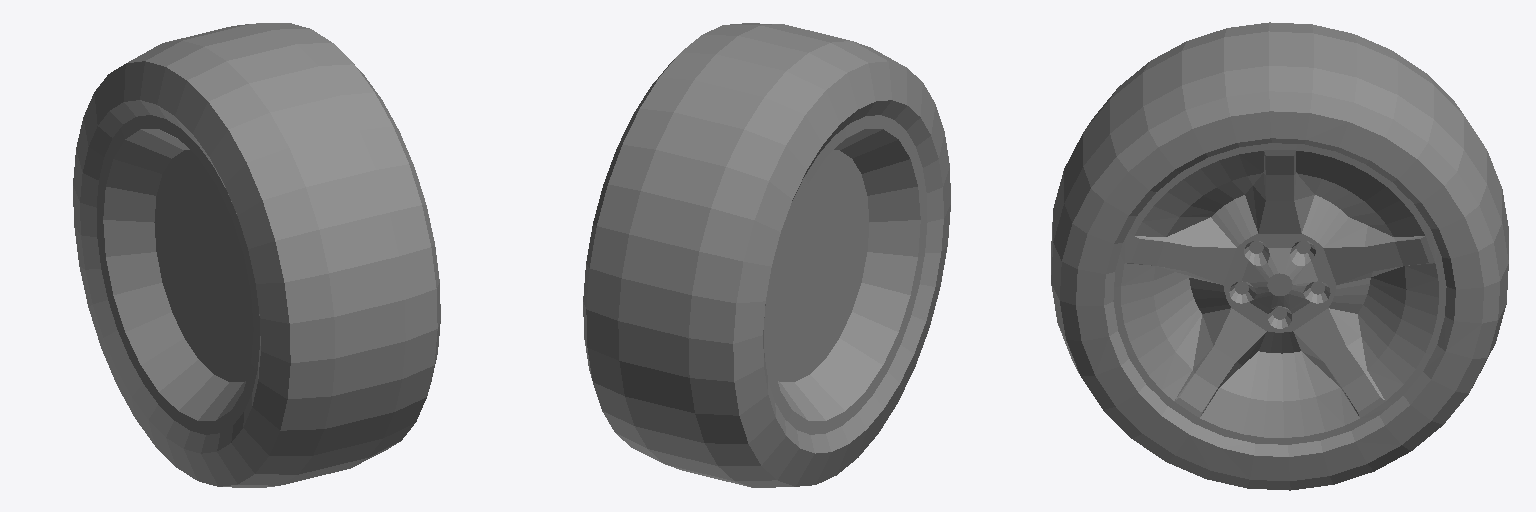
The model's file is Wheel33.obj.
The picture shows the model from 3 angles: view 1: azimuth 30°, elevation 25°; view 2: azimuth 150°, elevation 25°; view 3: azimuth 270°, elevation 25°; orthographic projection.
Visible parts, largest first — view 1: BTechFix; view 2: BTechFix; view 3: BTechFix.
Part boxes in pixels (left/top/right/bottom): BTechFix: left=73, top=23, right=440, bottom=487; BTechFix: left=583, top=23, right=950, bottom=487; BTechFix: left=1051, top=22, right=1508, bottom=490.
Bounding box in the file's own units: 35.25 × 81.69 × 81.69.